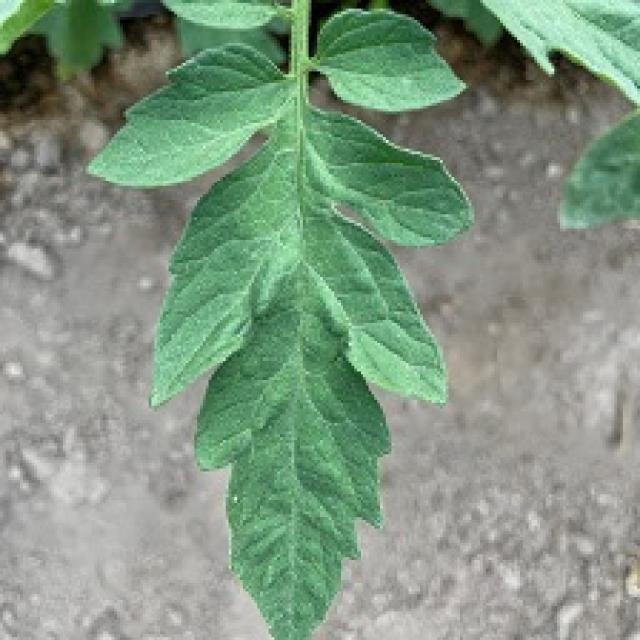Healthy: (87, 0, 479, 640)
